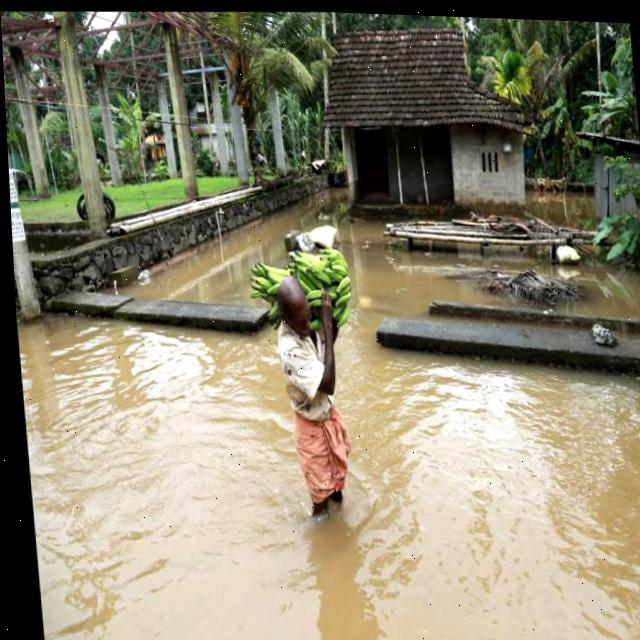civilian: (258, 270, 360, 531)
